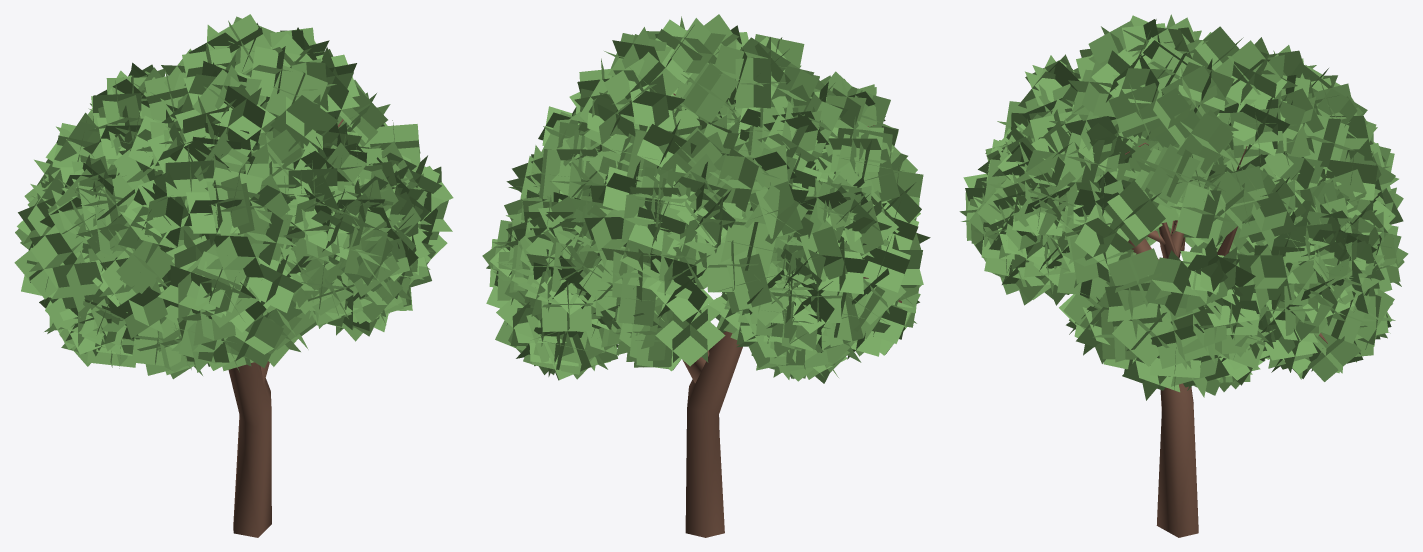
File: TRee_Test3.fbx
3 views of the same model, side by side, from view 1: azimuth 30°, elevation 25°; view 2: azimuth 150°, elevation 25°; view 3: azimuth 270°, elevation 25° (orthographic). The views are drawn at different scales.
Visible parts, largest first — view 1: tree; view 2: tree; view 3: tree.
Part boxes in pixels (x1,y1,x2,y2): tree: (14, 14, 453, 537); tree: (482, 14, 930, 537); tree: (959, 14, 1408, 537).
Size of the model in its own units: 158 by 188 by 153.
